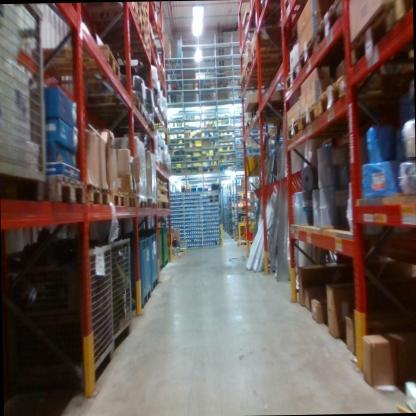pallet: (317, 71, 408, 121), (301, 100, 408, 141), (345, 8, 411, 63), (36, 39, 122, 77), (82, 13, 145, 42), (84, 88, 142, 115), (283, 121, 355, 142), (314, 0, 347, 44), (44, 174, 88, 207), (76, 2, 138, 20), (282, 64, 319, 94), (244, 61, 291, 84), (249, 37, 292, 60), (91, 109, 147, 124), (105, 41, 151, 59), (86, 184, 111, 213), (240, 76, 281, 92), (297, 39, 316, 73), (109, 185, 126, 211), (144, 82, 159, 108), (142, 117, 169, 130), (149, 18, 164, 41), (123, 188, 138, 210), (393, 0, 411, 18), (152, 61, 166, 82), (134, 120, 156, 132), (237, 237, 260, 248), (134, 196, 148, 213), (157, 103, 165, 125), (171, 250, 184, 263), (148, 197, 157, 215), (148, 40, 158, 56), (156, 200, 163, 211), (163, 202, 170, 211), (179, 247, 187, 254)
stillage: (8, 242, 116, 387), (0, 3, 55, 202), (103, 233, 140, 356)
